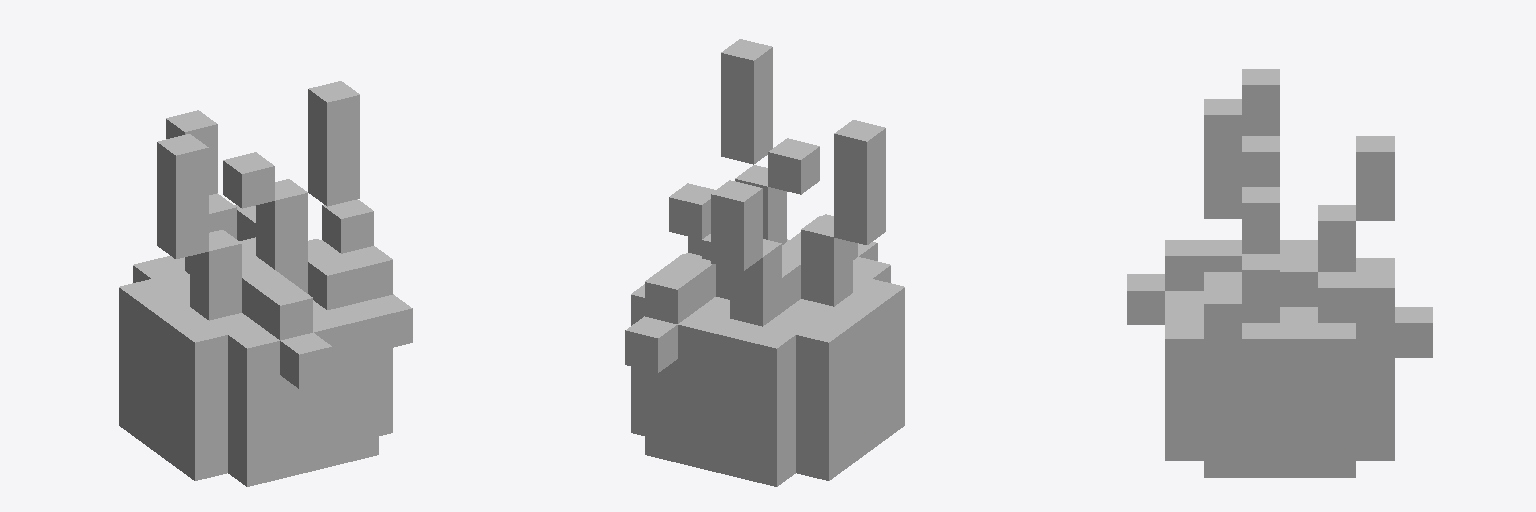
The model's file is Plant.obj.
The picture shows the model from 3 angles: view 1: azimuth 30°, elevation 25°; view 2: azimuth 150°, elevation 25°; view 3: azimuth 270°, elevation 25°; orthographic projection.
Parts seen in each view (by area): view 1: Plant; view 2: Plant; view 3: Plant.
Part boxes in pixels (x1,y1,x2,y2): Plant: (119,81,412,486); Plant: (625,39,904,486); Plant: (1127,69,1432,477).
Size of the model in its own units: 6 by 10 by 8.